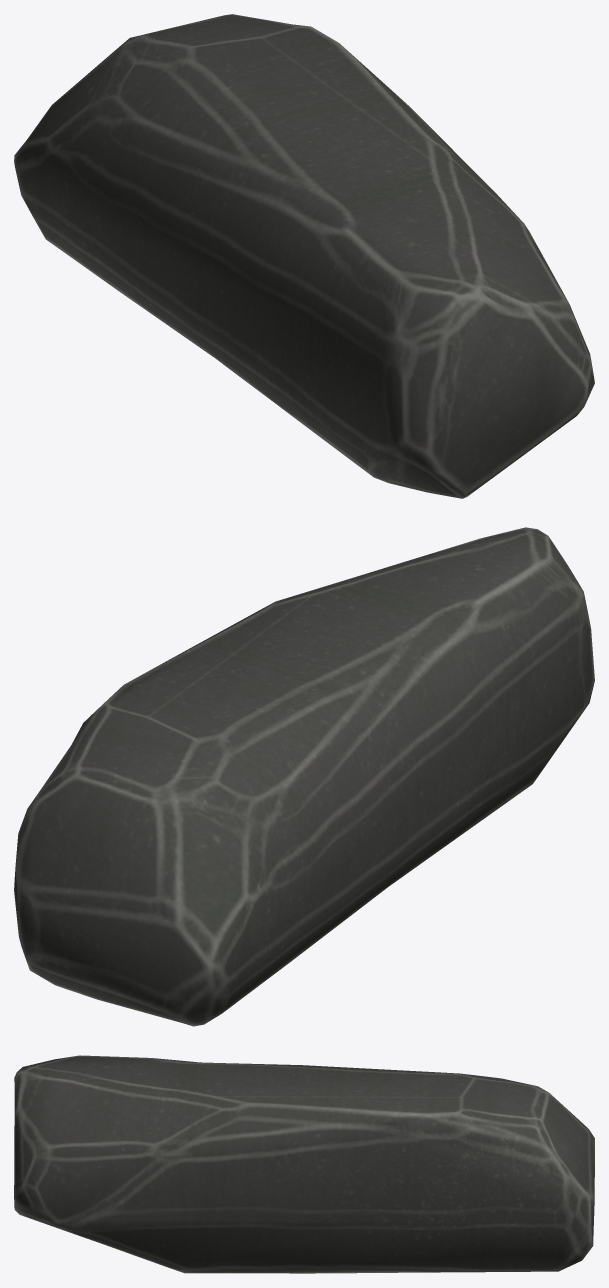
File: Stylized Rocks 2.fbx
3 views of the same model, one above another, from view 1: azimuth 30°, elevation 25°; view 2: azimuth 150°, elevation 25°; view 3: azimuth 270°, elevation 25° (orthographic). The views are drawn at different scales.
Visible parts, largest first — view 1: Stylized Rocks 2; view 2: Stylized Rocks 2; view 3: Stylized Rocks 2.
Boxes of the visible parts, <box> form: Stylized Rocks 2: <box>14,14,594,498</box>; Stylized Rocks 2: <box>14,527,594,1026</box>; Stylized Rocks 2: <box>14,1055,594,1273</box>.
Bounding box in the file's own units: 200 × 200 × 627.
1 material, 1 textured.
